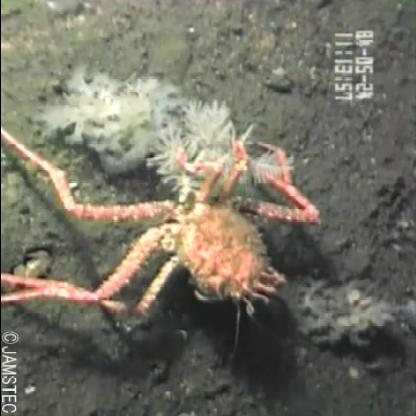Bio: (1, 93, 327, 320)
